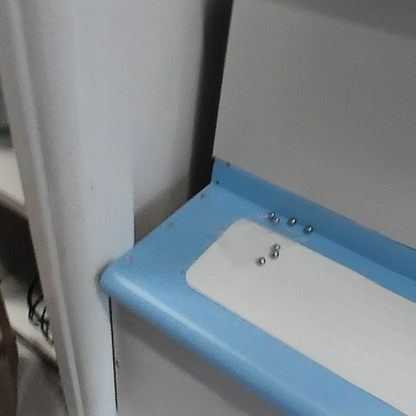ironball: (254, 253, 269, 269), (302, 221, 313, 235), (265, 207, 277, 219), (269, 216, 282, 226), (269, 248, 280, 259), (286, 214, 296, 224), (271, 241, 281, 250)
